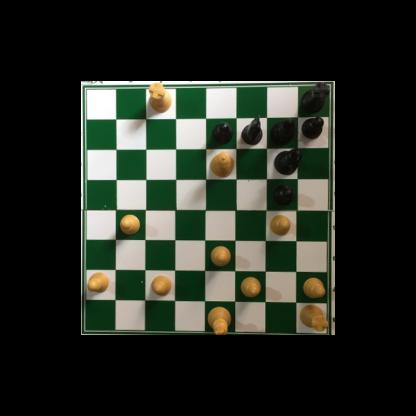black-bishop: (272, 116, 295, 145)
black-king: (272, 148, 302, 176)
black-knight: (240, 114, 264, 145)
black-pawn: (301, 116, 324, 140), (272, 185, 294, 207), (211, 122, 232, 145)
black-rook: (298, 82, 328, 115)
white-king: (204, 305, 232, 335)
white-pawn: (149, 273, 173, 298), (301, 277, 327, 300), (239, 275, 263, 299), (86, 270, 110, 292), (210, 245, 232, 268), (269, 214, 292, 236), (119, 214, 141, 235)
white-queen: (209, 151, 234, 179)
white-rook: (297, 301, 328, 332), (145, 82, 171, 115)
